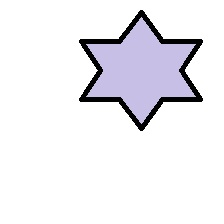star: (78, 9, 203, 131)
